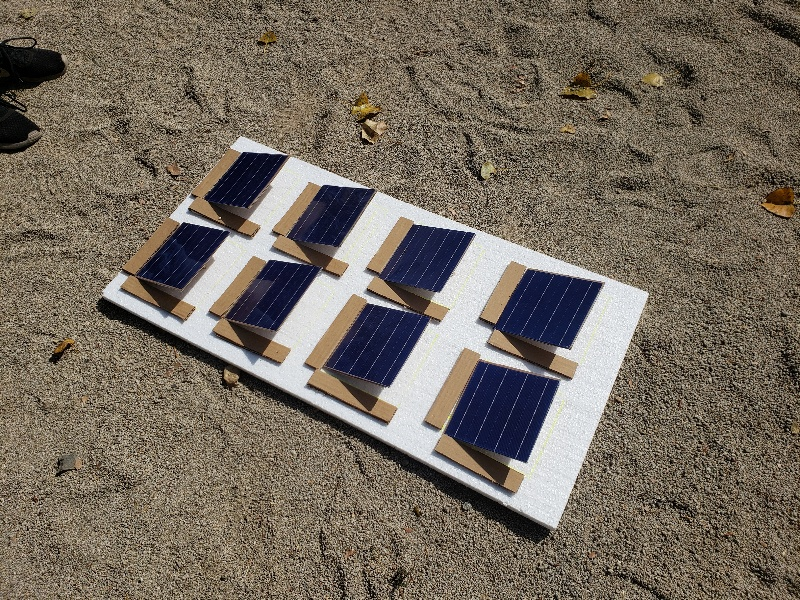clean: (442, 361, 558, 463), (496, 267, 609, 350), (329, 304, 431, 389), (134, 221, 228, 292), (290, 184, 373, 249)
